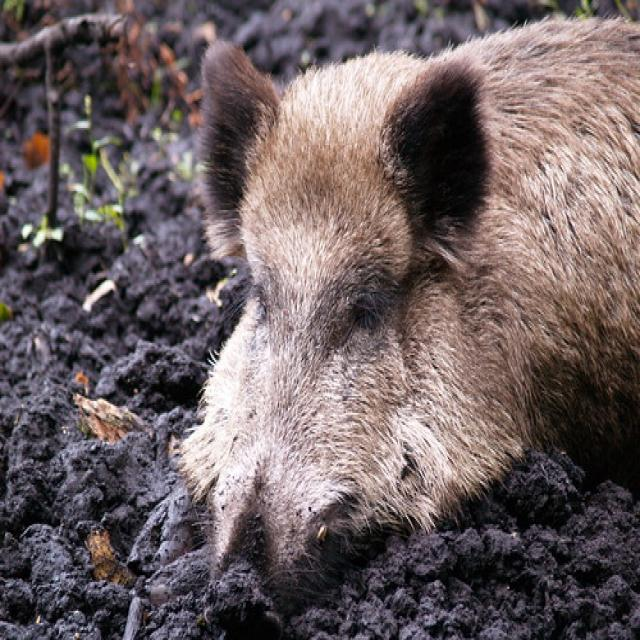boar: (122, 0, 640, 599)
